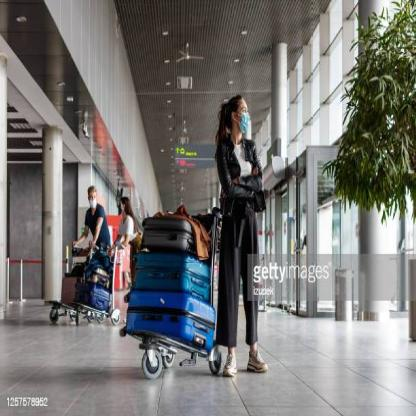airport-trolley: (126, 202, 223, 382), (45, 238, 130, 329)
